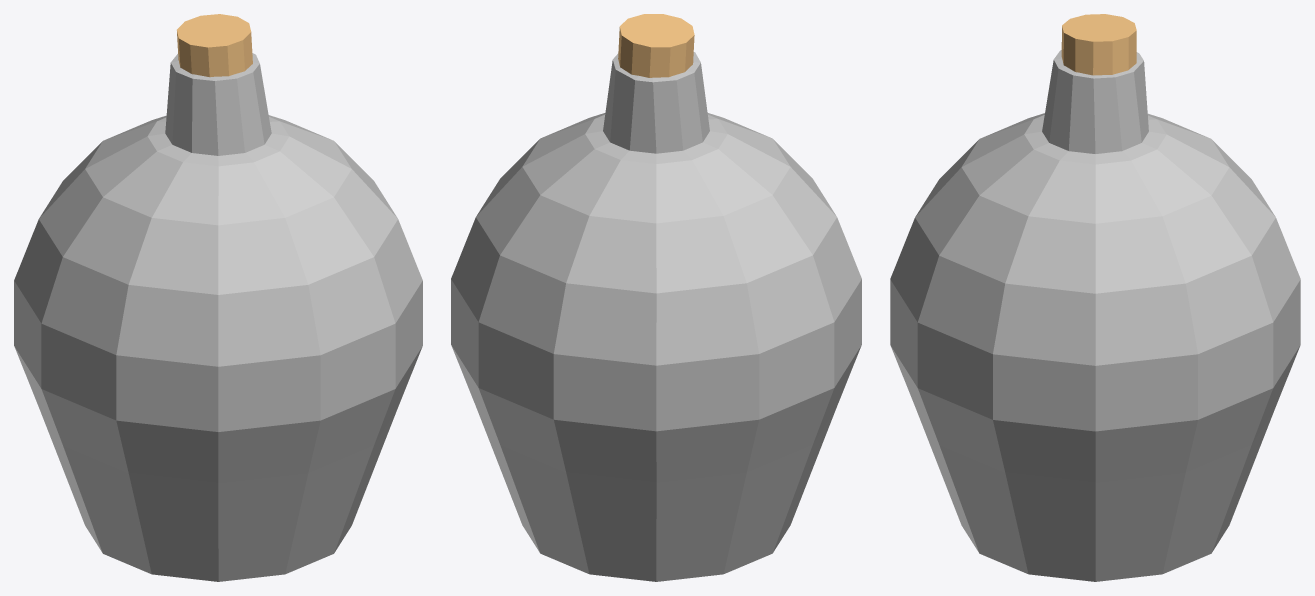
File: Big Potion.fbx
The picture shows the model from 3 angles, left to right: view 1: azimuth 30°, elevation 25°; view 2: azimuth 150°, elevation 25°; view 3: azimuth 270°, elevation 25°; orthographic projection.
Parts seen in each view (by area): view 1: mesh_113547677, mesh_688645330; view 2: mesh_113547677, mesh_688645330; view 3: mesh_113547677, mesh_688645330.
Boxes of the visible parts, left/top/right/bottom form: mesh_113547677: left=14, top=53, right=422, bottom=581; mesh_688645330: left=177, top=14, right=252, bottom=77; mesh_113547677: left=451, top=52, right=861, bottom=581; mesh_688645330: left=618, top=14, right=694, bottom=77; mesh_113547677: left=890, top=50, right=1300, bottom=581; mesh_688645330: left=1061, top=14, right=1136, bottom=75.
Size of the model in its own units: 10.83 by 14.5 by 10.83.
